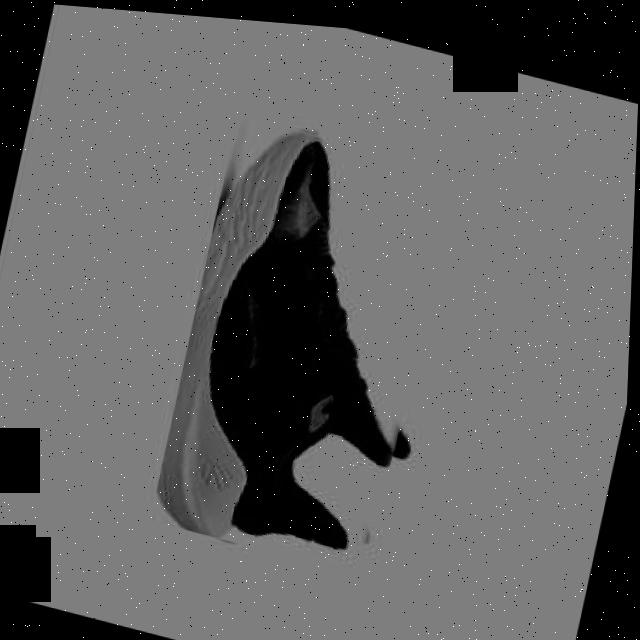shoe: (152, 101, 471, 578)
